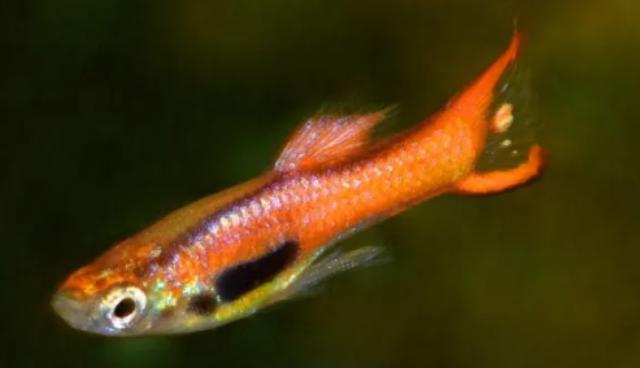Mulut: (36, 261, 100, 338)
Sirip Anal: (302, 221, 406, 293)
Sirip Ekor: (424, 6, 568, 232)
Sirip Punggung: (248, 80, 408, 184)
